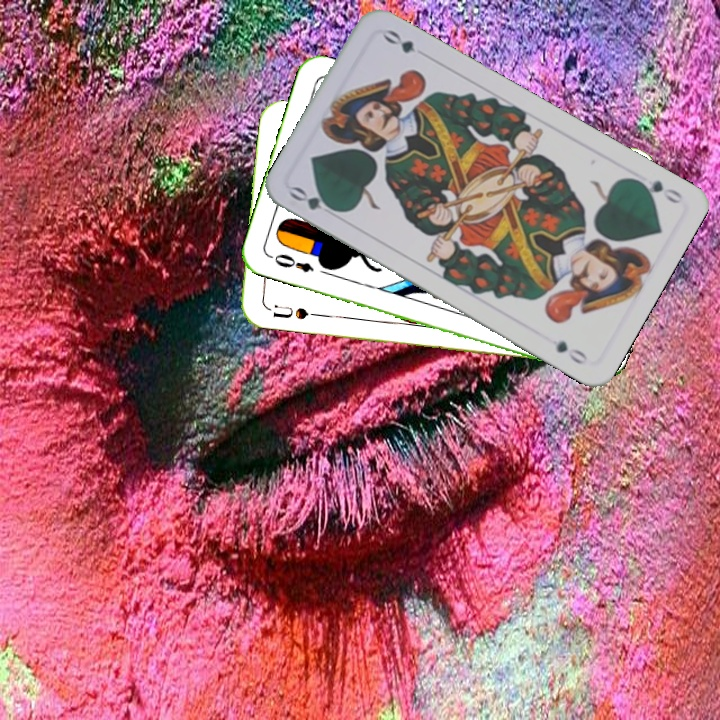EO: (265, 249, 316, 276)
GO: (285, 182, 343, 219), (628, 174, 685, 207)
SU: (261, 301, 320, 322)
